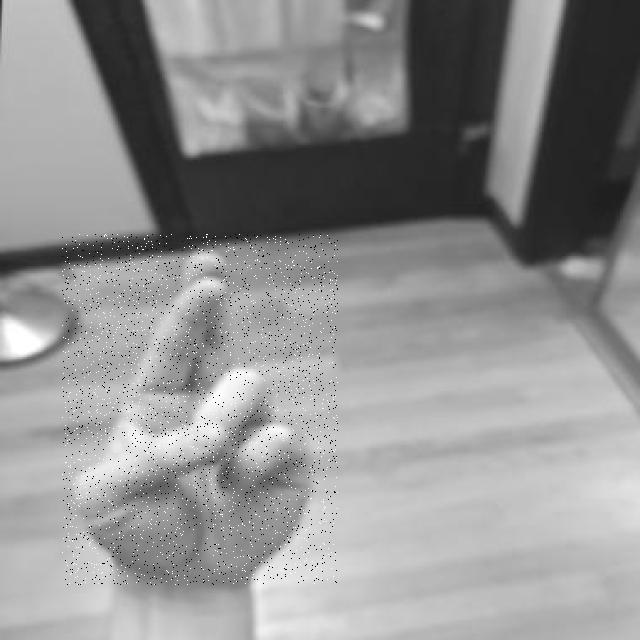R: (62, 234, 338, 585)
